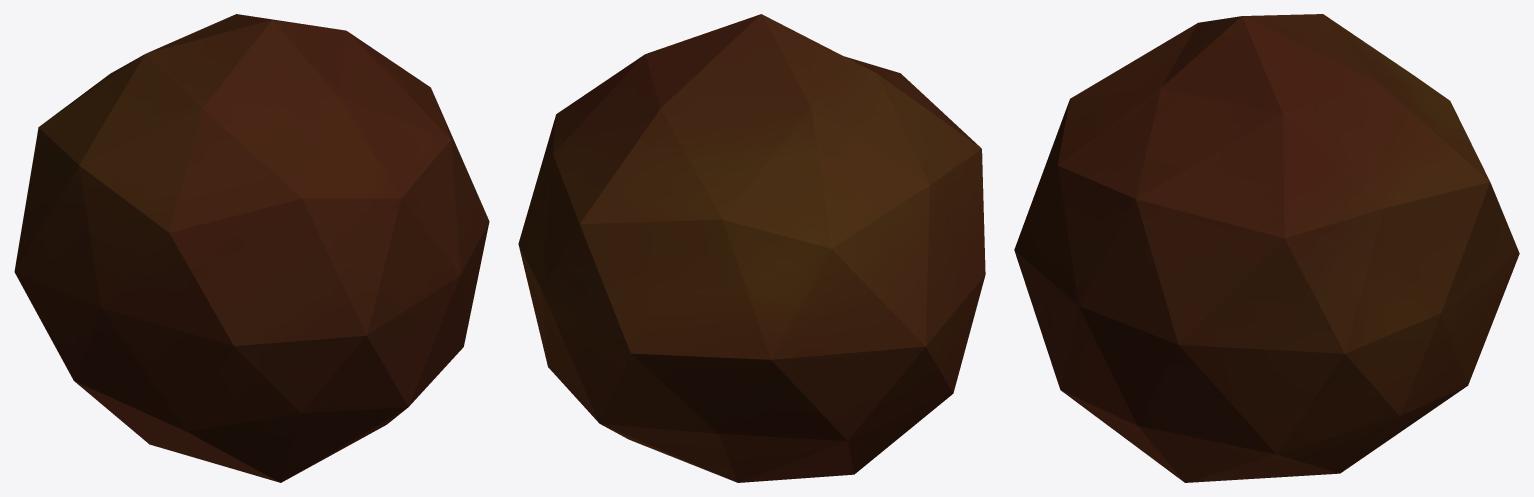
File: bomb.fbx
The picture shows the model from 3 angles, left to right: view 1: azimuth 30°, elevation 25°; view 2: azimuth 150°, elevation 25°; view 3: azimuth 270°, elevation 25°; orthographic projection. The views are drawn at different scales.
Parts seen in each view (by area): view 1: Icosphere; view 2: Icosphere; view 3: Icosphere.
Boxes of the visible parts, x1,y1,x2,y2 form: Icosphere: [14, 14, 489, 482]; Icosphere: [518, 14, 985, 482]; Icosphere: [1014, 14, 1519, 482].
Size of the model in its own units: 97.41 by 105 by 103.
Materials: 1 (1 with a texture image).
